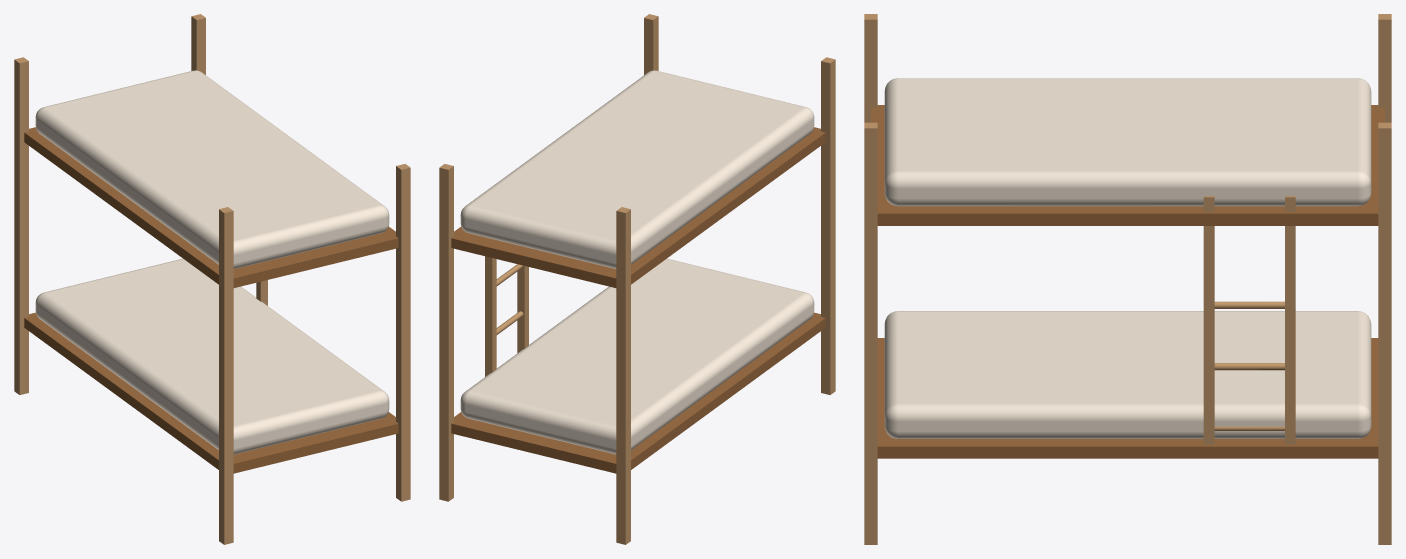
File: bunkbed.glb
3 views of the same model, side by side, from view 1: azimuth 30°, elevation 25°; view 2: azimuth 150°, elevation 25°; view 3: azimuth 270°, elevation 25° (orthographic). The views are drawn at different scales.
Visible parts, largest first — view 1: material-1-upholstery, material-0-leg, material-2-shelf; view 2: material-1-upholstery, material-0-leg, material-2-shelf; view 3: material-1-upholstery, material-2-shelf, material-0-leg.
Part boxes in pixels (box(x1,y1,x2,y2)): material-1-upholstery: box(35, 70, 389, 454); material-0-leg: box(14, 14, 410, 544); material-2-shelf: box(24, 127, 398, 473); material-1-upholstery: box(460, 70, 814, 454); material-0-leg: box(439, 14, 835, 544); material-2-shelf: box(451, 127, 825, 473); material-1-upholstery: box(884, 78, 1371, 438); material-2-shelf: box(871, 105, 1384, 458); material-0-leg: box(864, 14, 1391, 544).
Size of the model in its own units: 1 by 1.7 by 1.95.
